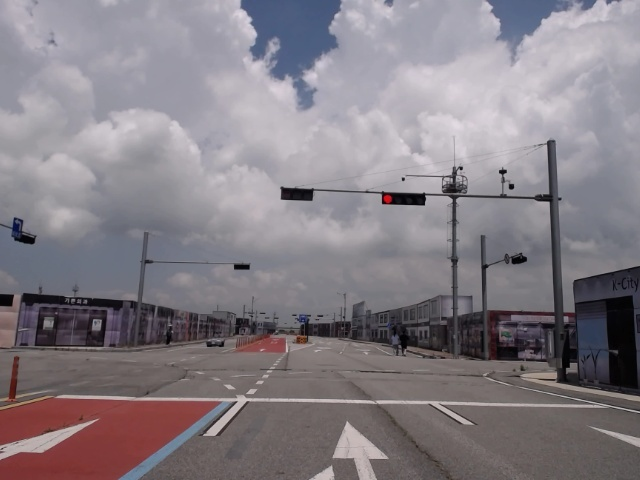red_4: (382, 192, 425, 206)
